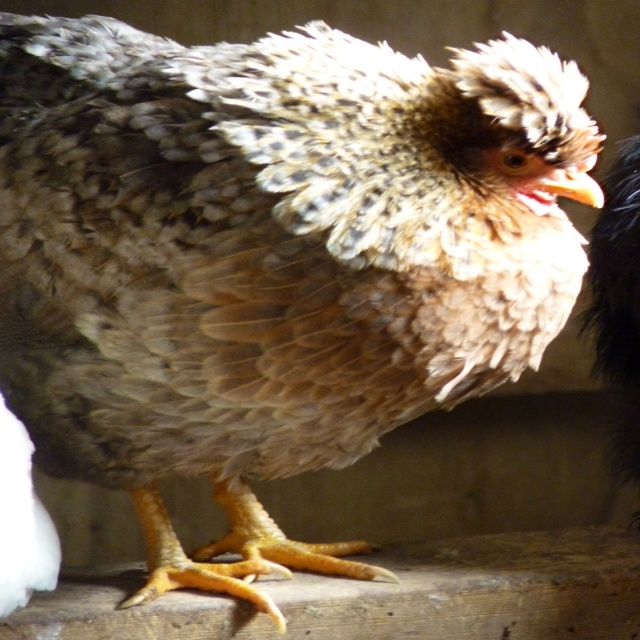Chicken: (14, 24, 621, 640)
